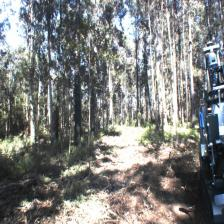trunktrack_idkeyframe: (74, 94, 82, 145)
